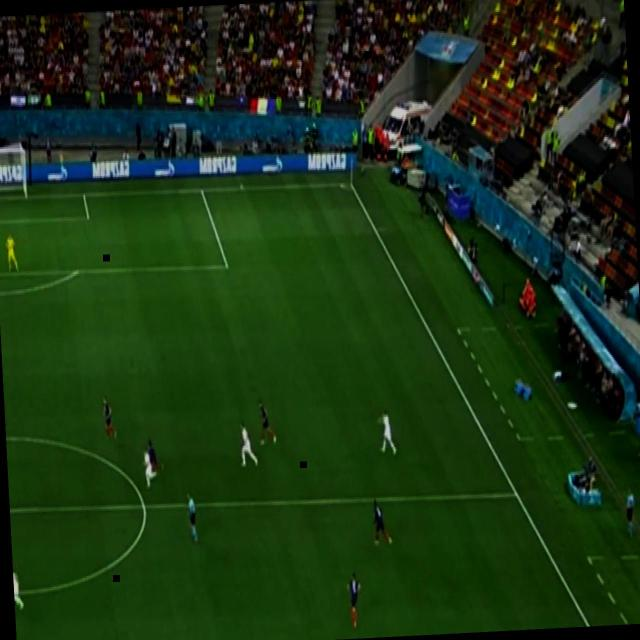player-white: (370, 496, 396, 550), (235, 420, 260, 474), (374, 405, 398, 459), (255, 397, 278, 451), (345, 568, 364, 632), (142, 431, 166, 479), (182, 488, 201, 543), (140, 445, 160, 491), (100, 393, 117, 447), (1, 230, 19, 272), (12, 562, 27, 610)
